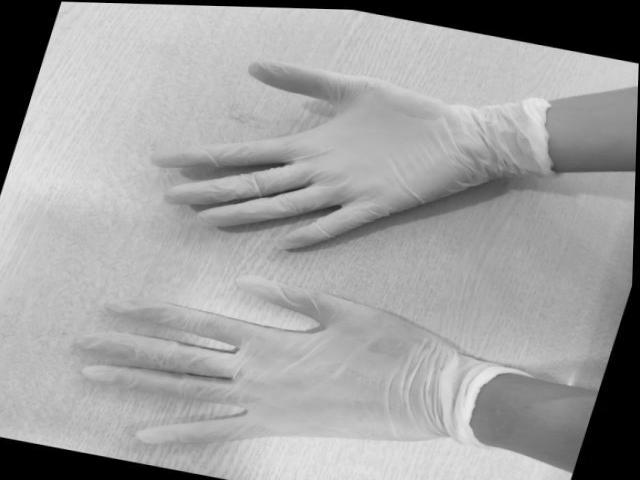gloved: (158, 58, 488, 251), (83, 276, 434, 446)
